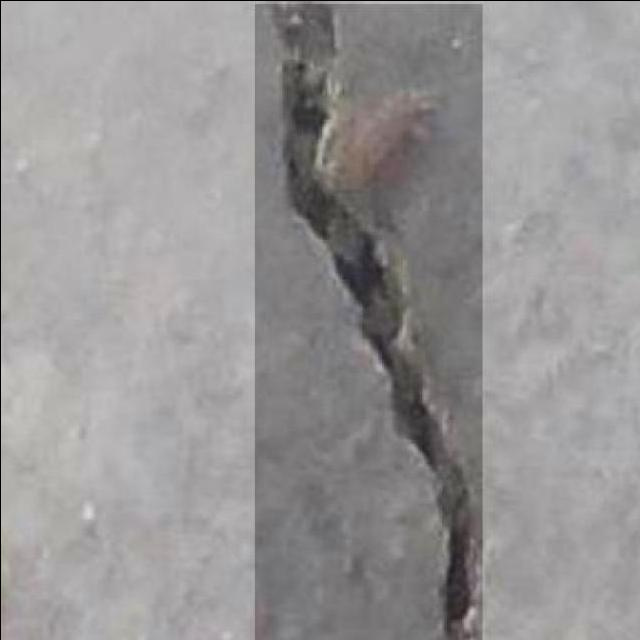SurfaceCrack: (246, 0, 488, 640)
